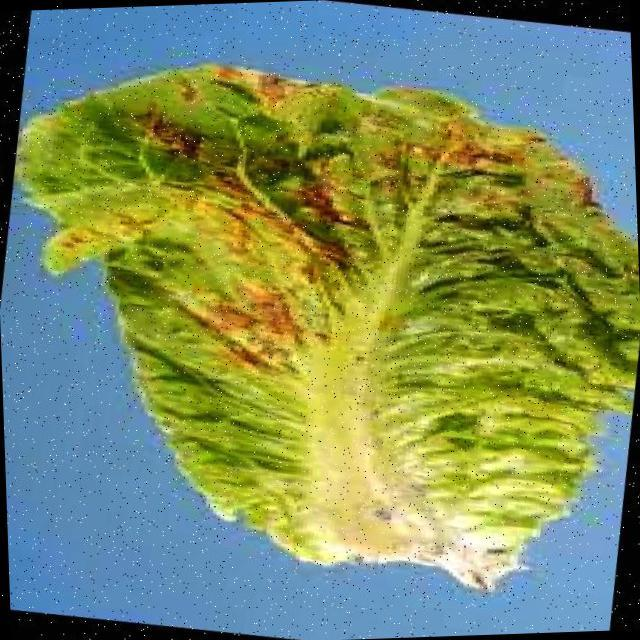Lettuce Mosaic Virus: (127, 70, 640, 577)
